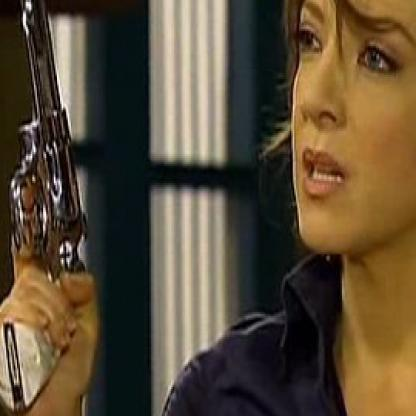gun: (0, 0, 100, 414)
